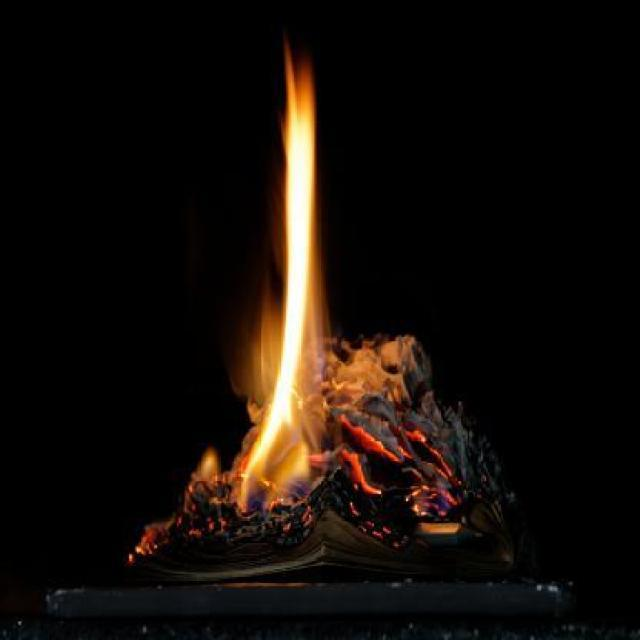Fire: (234, 41, 338, 506)
